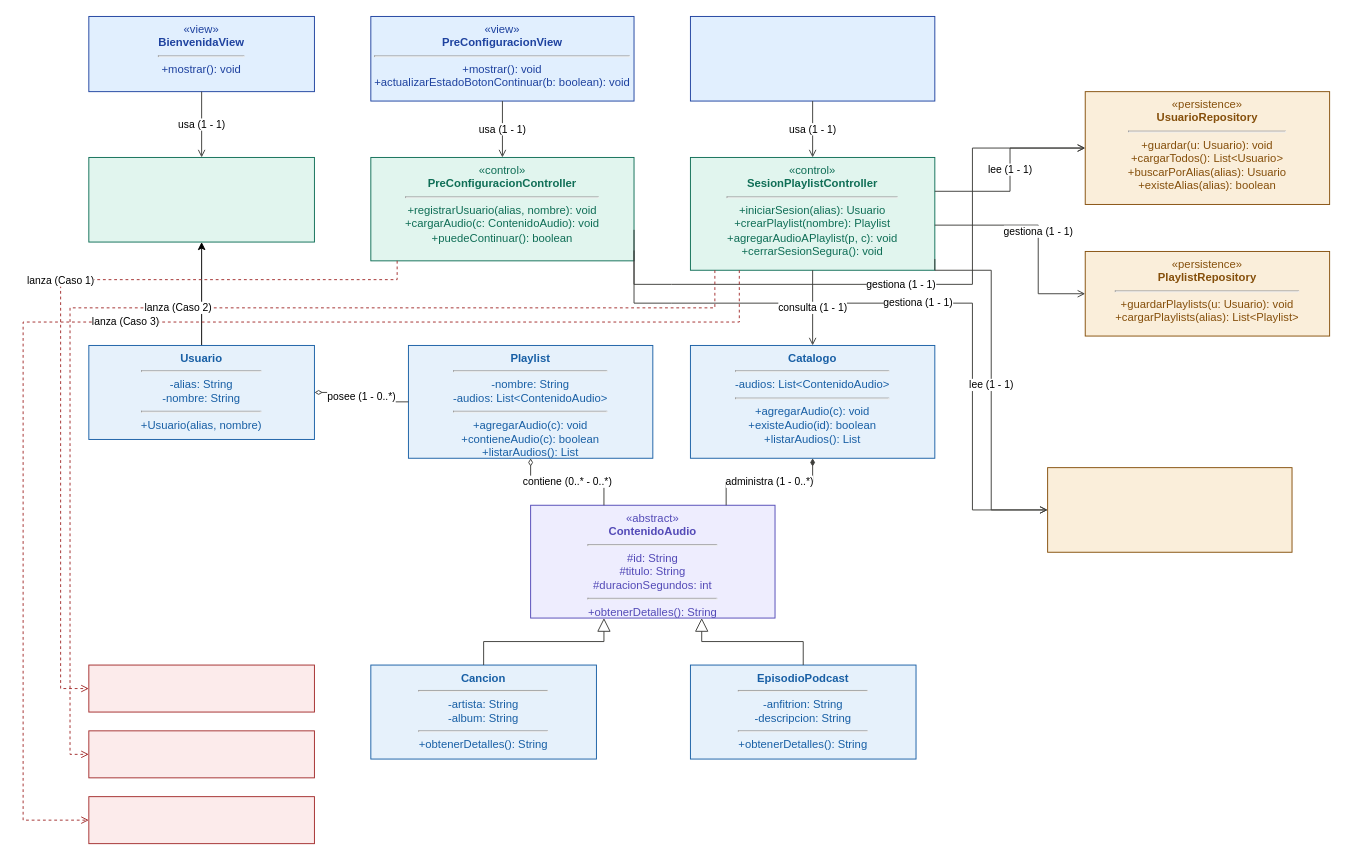
Some shapes in this 1346 by 860 pixel diagram are drawn without their labels. Each missing label, with the centre of its shape:
"«control» BienvenidaController +continuar(): void +cerrarAplicacion(): void" goes at [201,199].
"«exception» AliasDuplicadoException" goes at [201,688].
"«exception» AudioDuplicadoEnPlaylistException" goes at [201,820].
"«exception» UsuarioNoEncontradoException" goes at [201,754].
"«persistence» CatalogoRepository +guardar(c: Catalogo): void +cargar(): Catalogo" goes at [1169,509].
"«view» SesionPlaylistView +mostrar(): void +refrescarPlaylists(): void" goes at [812,58].
